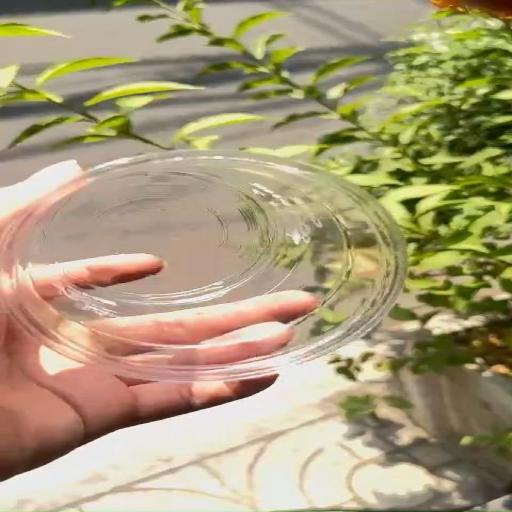ly_giay: (0, 150, 406, 383)
